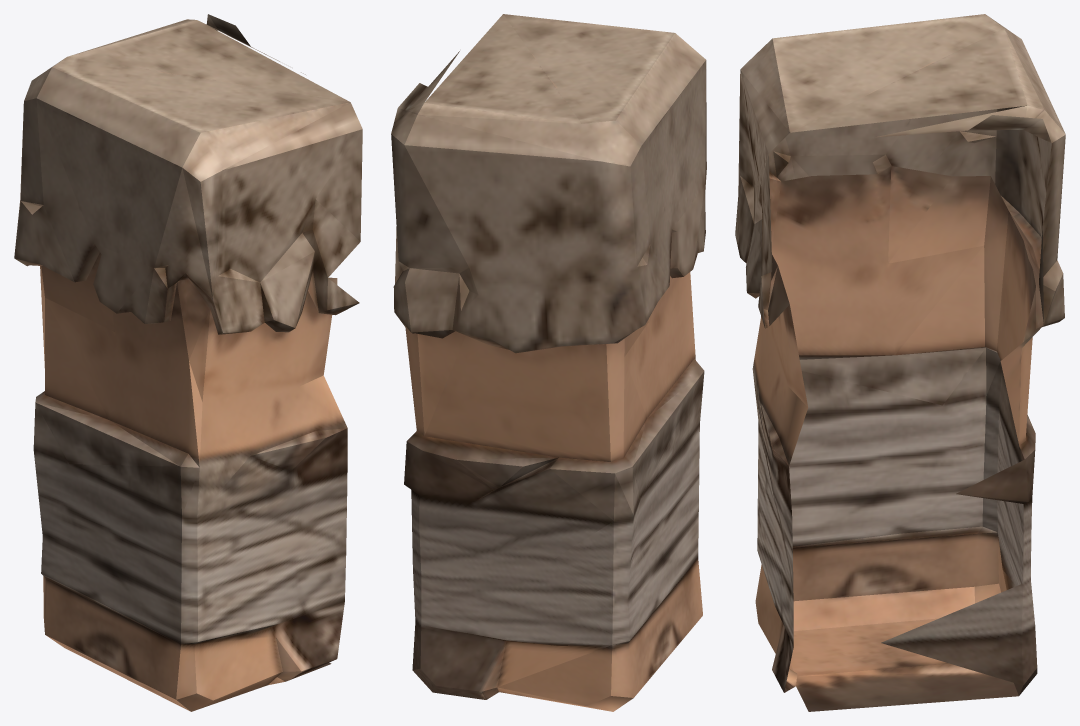
Rendered from patient_armNeg.glb.
3 renders of one model, left to right at view 1: azimuth 30°, elevation 25°; view 2: azimuth 150°, elevation 25°; view 3: azimuth 270°, elevation 25°, orthographic. The views are drawn at different scales.
Visible parts, largest first — view 1: armNeg; view 2: armNeg; view 3: armNeg.
Part boxes in pixels (x1,y1,x2,y2): armNeg: (14,14,362,711); armNeg: (391,14,706,711); armNeg: (735,14,1065,711).
Bounding box in the file's own units: 0.2915 × 0.6786 × 0.3383.
Materials: 1 (1 with a texture image).
